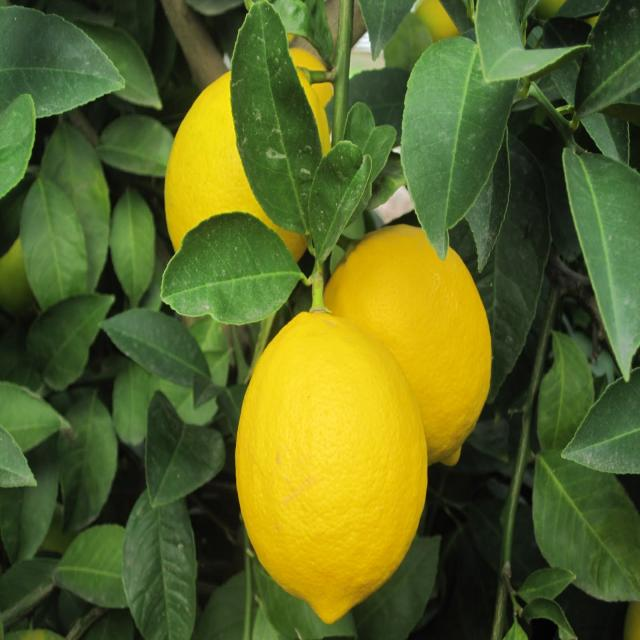lemon: (234, 330, 419, 612)
